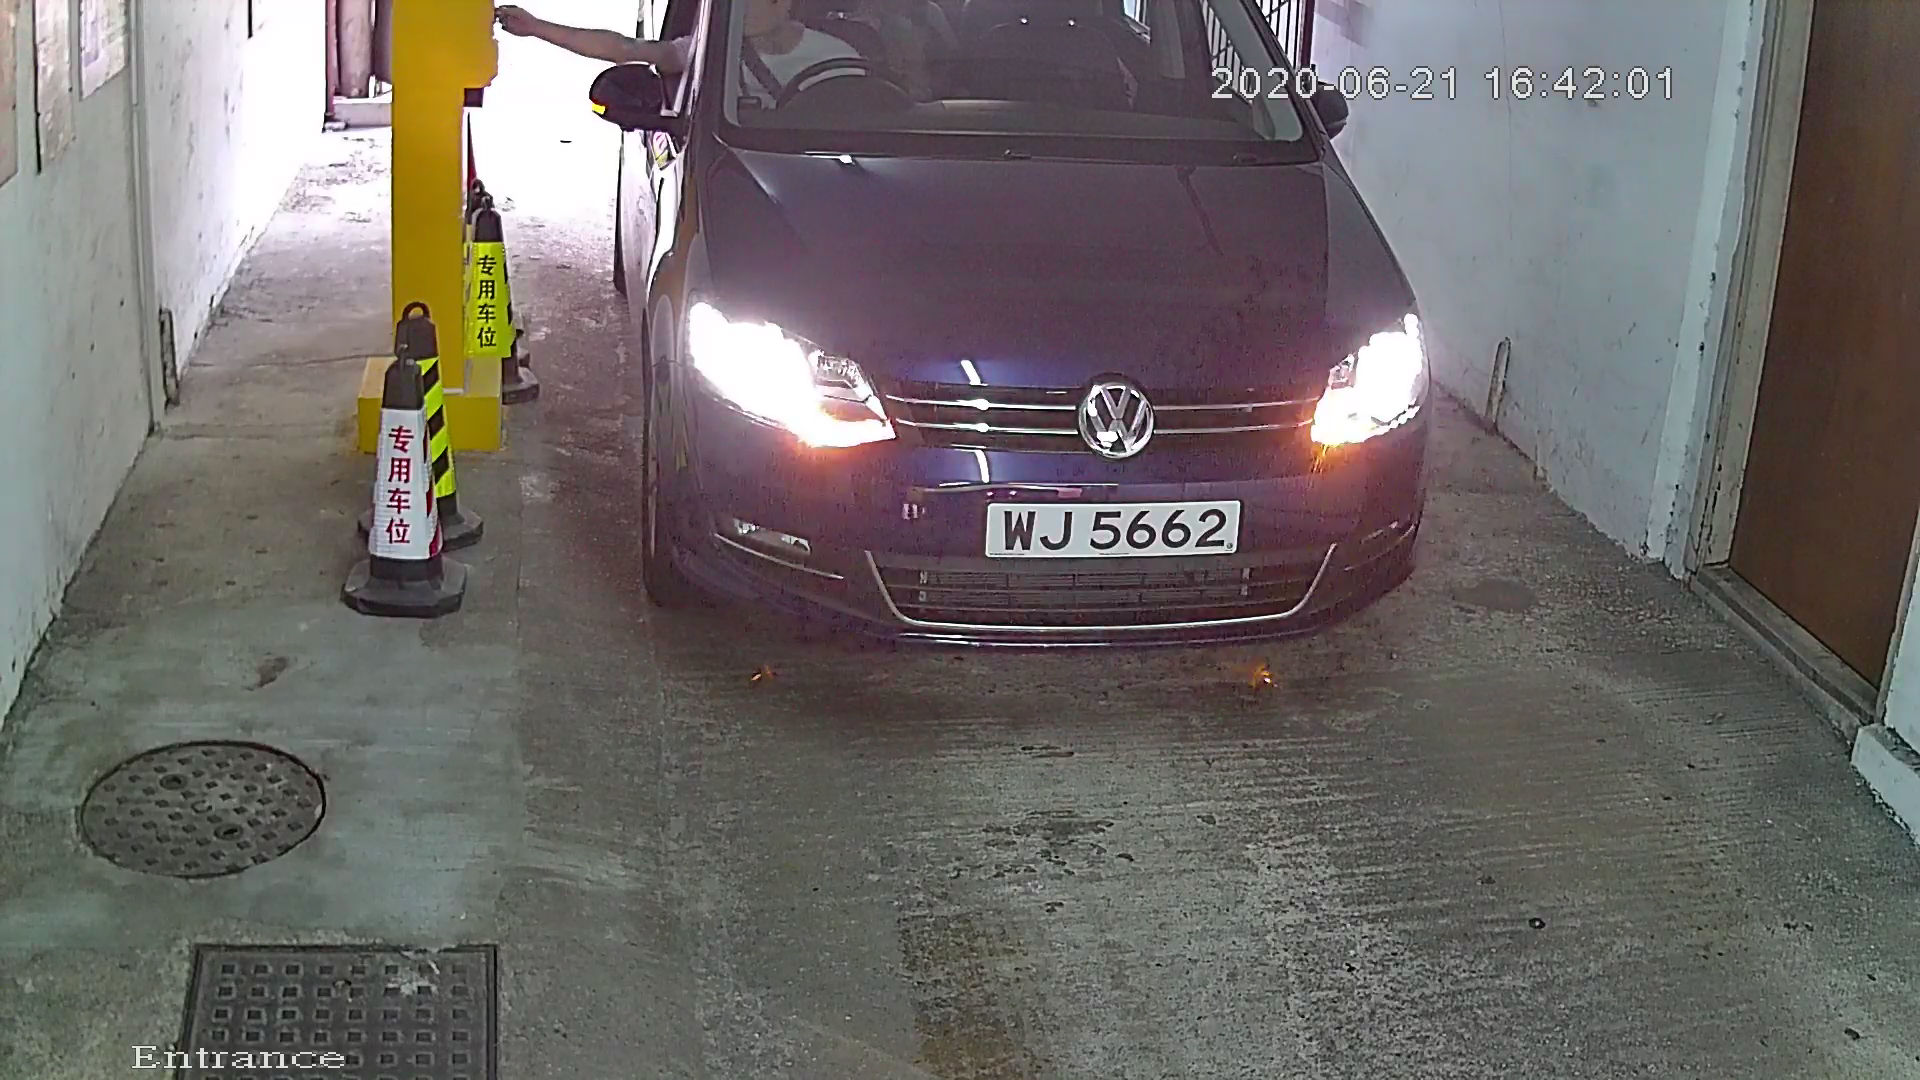privatecar: (571, 3, 1518, 790)
